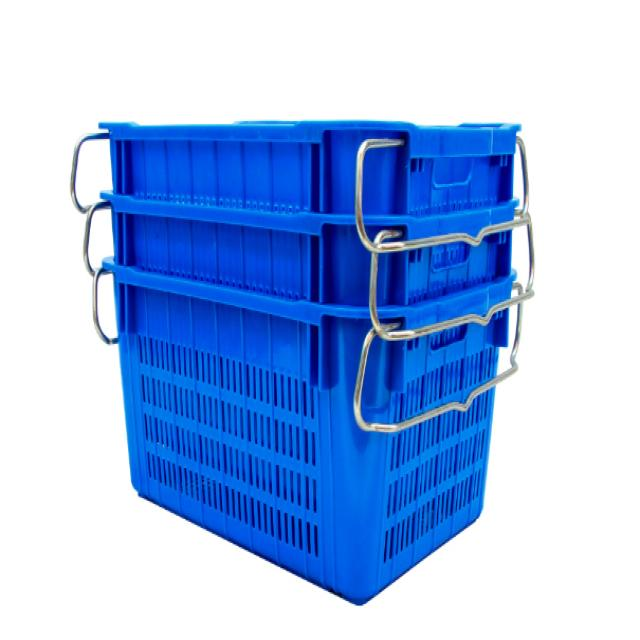basket: (50, 259, 515, 623), (99, 114, 521, 218), (93, 194, 376, 306), (344, 299, 530, 431), (365, 215, 524, 314), (364, 199, 520, 242)
